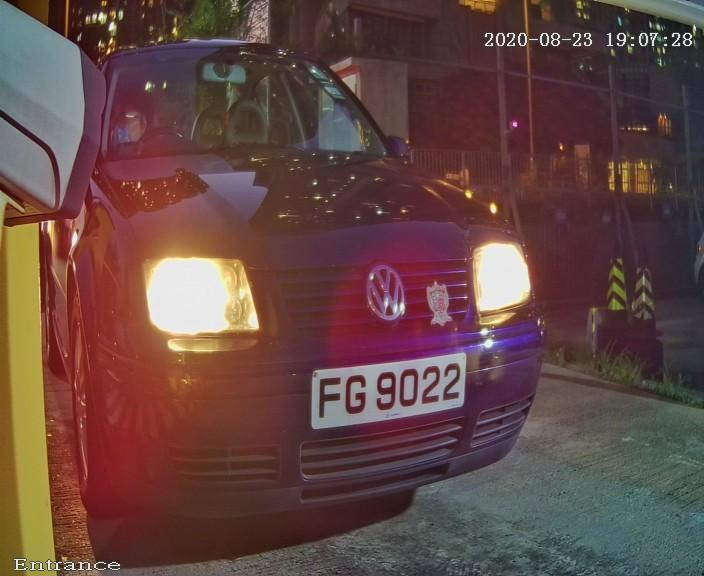Car: (38, 11, 579, 541)
License Plate: (279, 337, 489, 448)
